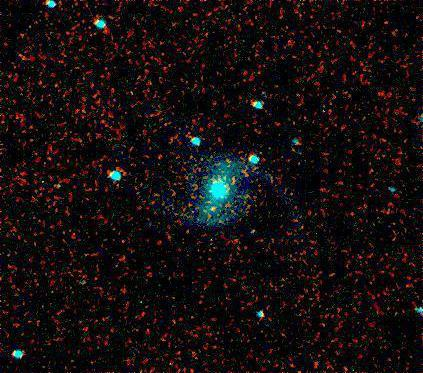star: (198, 194, 228, 224)
